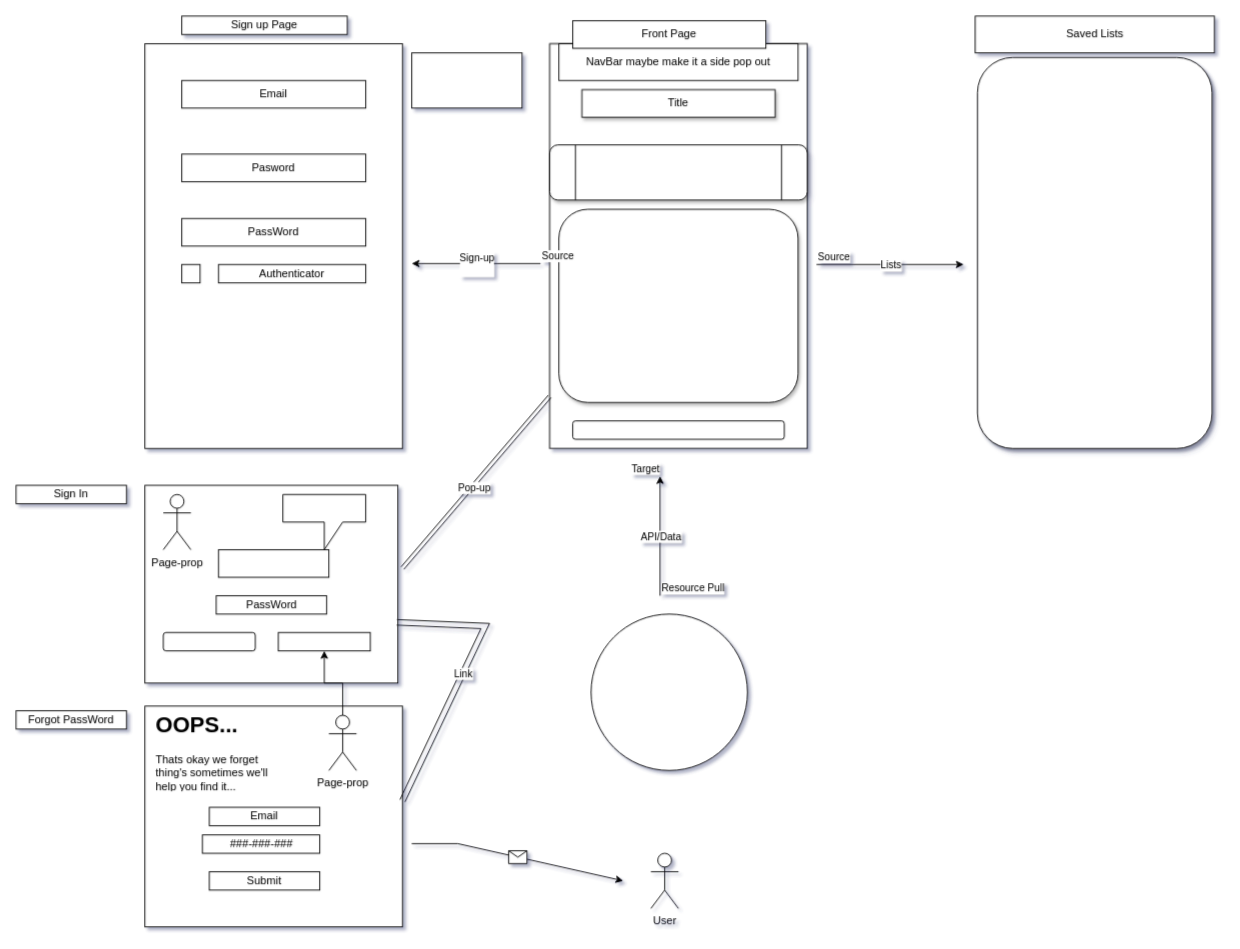
This 1240x949 diagram has some shape labels left out. The centre of each missing label's shape, as x and y in pixels:
API/ Data Source: point (669, 691)
Can probably just mkae a pop up: point (466, 80)
Carosel: point (679, 173)
Contact/Help: point (678, 429)
E-mail: point (273, 563)
Forgot Pass Word: point (323, 641)
Grid Layout of Objects: point (679, 307)
Sign-In/Btn: point (208, 641)
Welcome Back: point (324, 522)
